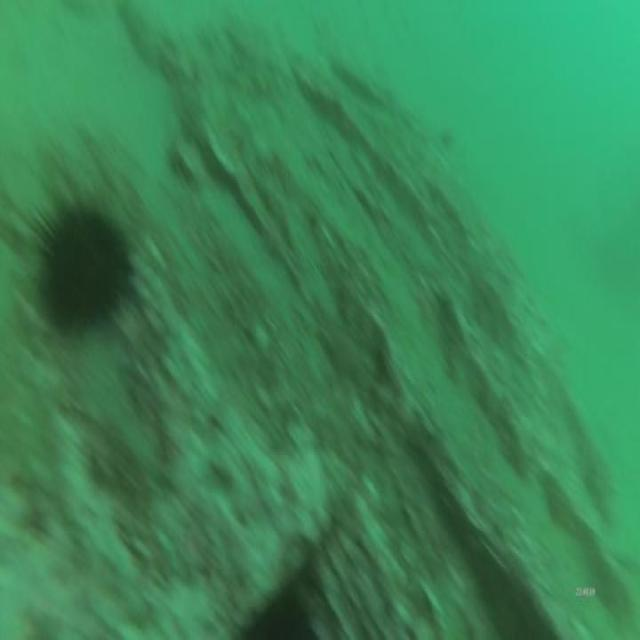echinus: (26, 190, 136, 349), (232, 581, 318, 640)
